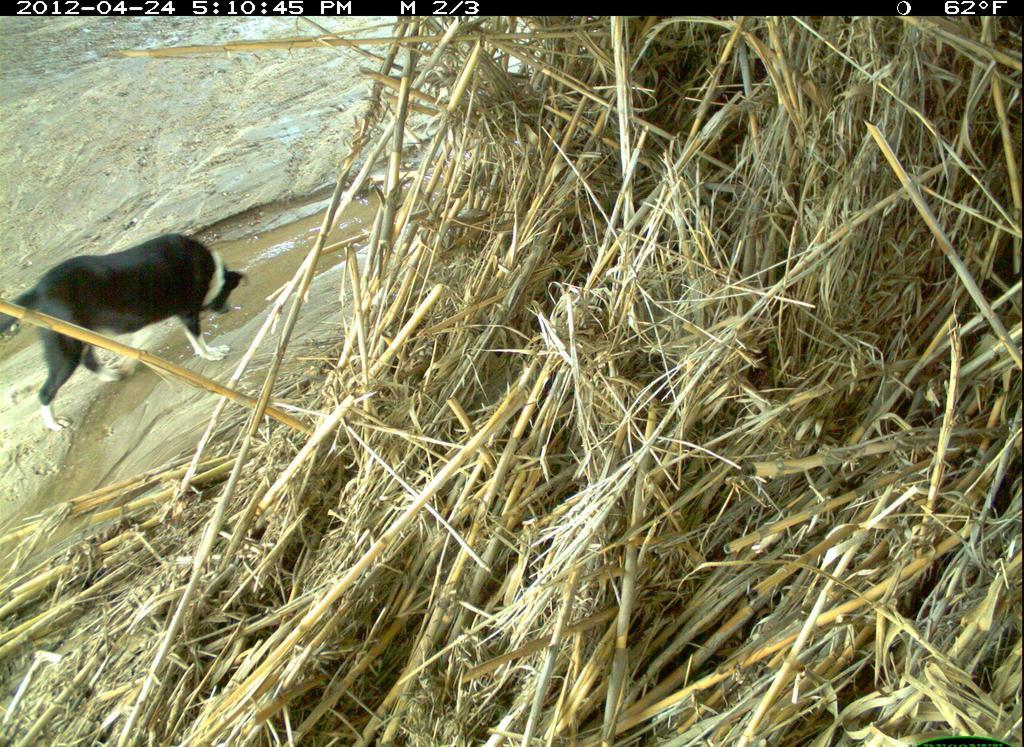dog: (4, 230, 253, 440)
